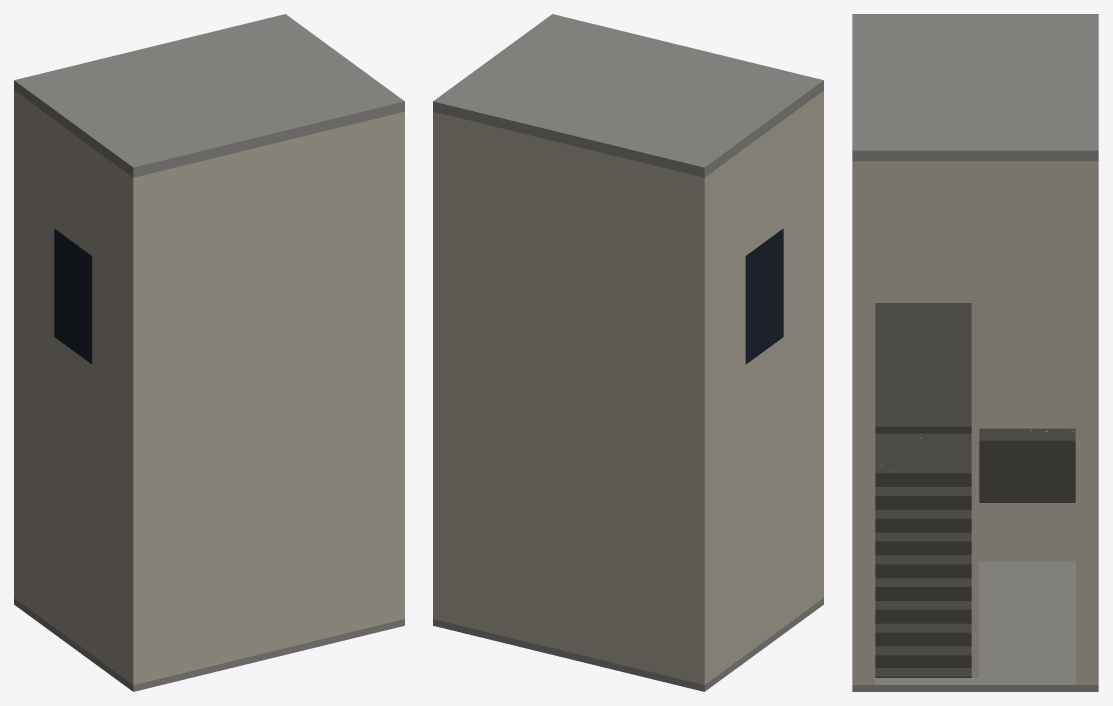
The model's file is stairs.glb.
3 renders of one model, left to right at view 1: azimuth 30°, elevation 25°; view 2: azimuth 150°, elevation 25°; view 3: azimuth 270°, elevation 25°, orthographic. The views are drawn at different scales.
Visible parts, largest first — view 1: StairWell; view 2: StairWell; view 3: StairWell, StairSteps.
Boxes of the visible parts, x1,y1,x2,y2 form: StairWell: [14, 14, 404, 691]; StairWell: [433, 14, 823, 691]; StairWell: [852, 14, 1098, 691]; StairSteps: [875, 431, 1075, 677].
Size of the model in its own units: 4.21 by 7.75 by 3.2.
